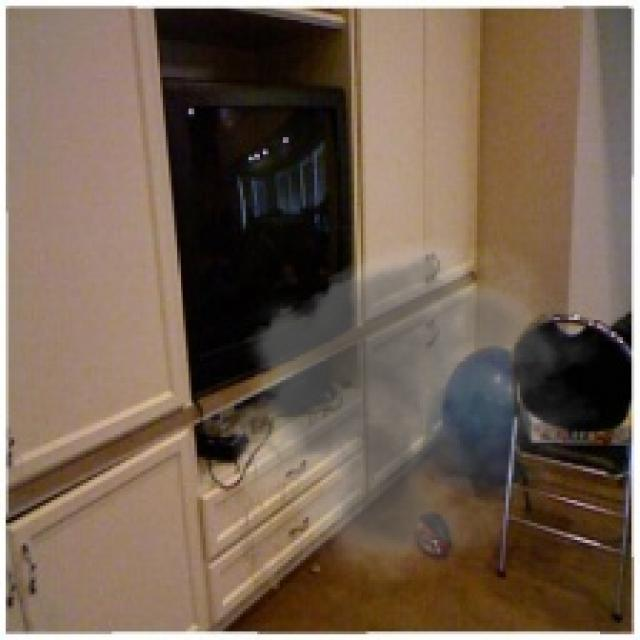smoke: (214, 226, 600, 583)
